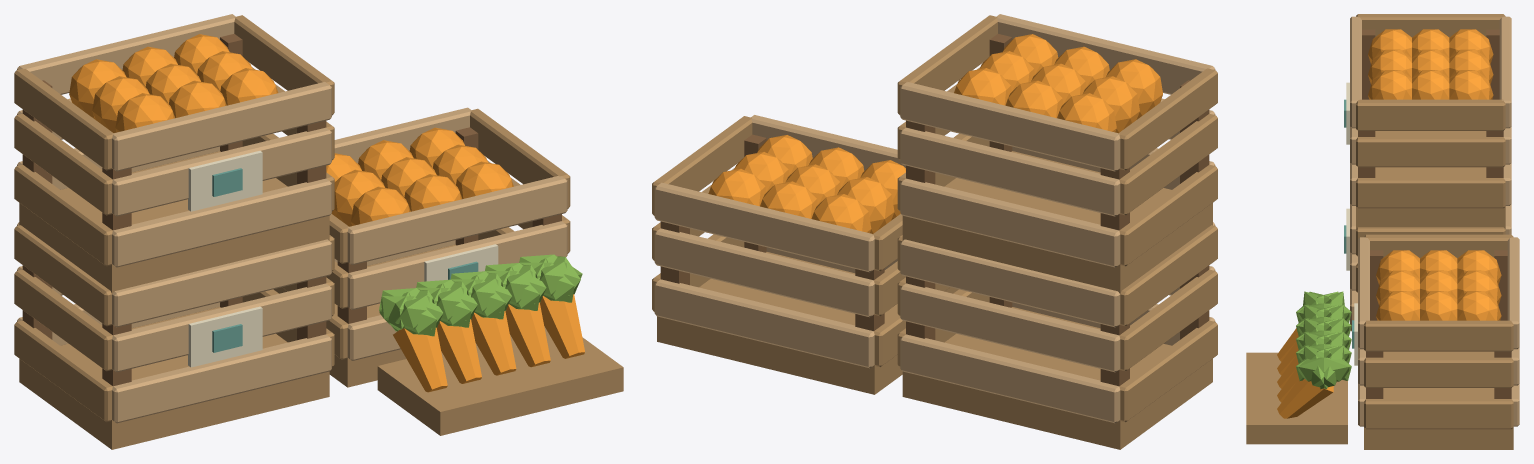
Rendered from farm_art_produce_crates.glb.
The picture shows the model from 3 angles, left to right: view 1: azimuth 30°, elevation 25°; view 2: azimuth 150°, elevation 25°; view 3: azimuth 270°, elevation 25°; orthographic projection. The views are drawn at different scales.
Parts seen in each view (by area): view 1: Resting carrot crate bottom, Crate bottom, Crate bottom.002, Crate long slat.010, Crate long slat.016, Crate long slat, Crate long slat.012, Crate long slat.004, Crate long slat.002, Crate long slat.014, Crate long slat.008, Crate long slat.017 (+52 smaller); view 2: Crate bottom, Crate bottom.002, Crate long slat.017, Crate long slat.011, Crate long slat.003, Crate long slat.013, Crate long slat.001, Crate long slat.007, Crate long slat.009, Crate long slat.015, Crate bottom.001, Crate long slat.005 (+42 smaller); view 3: Resting carrot crate bottom, Crate bottom.001, Crate bottom.002, Crate end slat.011, Crate end slat.017, Crate end slat.007, Crate end slat.013, Crate end slat.015, Crate end slat.009, Crate end slat.010, Crate end slat.016, Crate long slat.017 (+37 smaller).
Part boxes in pixels (left/top/right/bottom): Resting carrot crate bottom: left=377, top=326, right=623, bottom=435; Crate bottom: left=19, top=307, right=329, bottom=449; Crate bottom.002: left=19, top=151, right=329, bottom=293; Crate long slat.010: left=347, top=176, right=567, bottom=264; Crate long slat.016: left=112, top=82, right=331, bottom=171; Crate long slat: left=112, top=334, right=331, bottom=423; Crate long slat.012: left=112, top=178, right=331, bottom=267; Crate long slat.004: left=112, top=239, right=331, bottom=327; Crate long slat.002: left=112, top=283, right=331, bottom=372; Crate long slat.014: left=112, top=127, right=331, bottom=216; Crate long slat.008: left=347, top=221, right=567, bottom=309; Crate long slat.017: left=17, top=14, right=235, bottom=94; Crate bottom: left=902, top=307, right=1212, bottom=449; Crate bottom.002: left=902, top=151, right=1212, bottom=293; Crate long slat.017: left=900, top=82, right=1120, bottom=171; Crate long slat.011: left=654, top=182, right=874, bottom=272; Crate long slat.003: left=900, top=283, right=1120, bottom=372; Crate long slat.013: left=900, top=178, right=1120, bottom=267; Crate long slat.001: left=900, top=334, right=1120, bottom=423; Crate long slat.007: left=654, top=279, right=874, bottom=368; Crate long slat.009: left=654, top=228, right=874, bottom=317; Crate long slat.015: left=900, top=127, right=1120, bottom=216; Crate bottom.001: left=657, top=252, right=902, bottom=394; Crate long slat.005: left=900, top=239, right=1120, bottom=327; Resting carrot crate bottom: left=1246, top=352, right=1347, bottom=444; Crate bottom.001: left=1364, top=351, right=1513, bottom=449; Crate bottom.002: left=1356, top=131, right=1505, bottom=228; Crate end slat.011: left=1364, top=320, right=1513, bottom=351; Crate end slat.017: left=1356, top=99, right=1505, bottom=130; Crate end slat.007: left=1364, top=398, right=1513, bottom=429; Crate end slat.013: left=1356, top=177, right=1505, bottom=208; Crate end slat.015: left=1356, top=136, right=1505, bottom=167; Crate end slat.009: left=1364, top=357, right=1513, bottom=387; Crate end slat.010: left=1364, top=234, right=1513, bottom=258; Crate end slat.016: left=1356, top=14, right=1505, bottom=37; Crate long slat.017: left=1499, top=16, right=1511, bottom=128.
Bounding box in the file's own units: 1.65 × 1.08 × 1.02.
